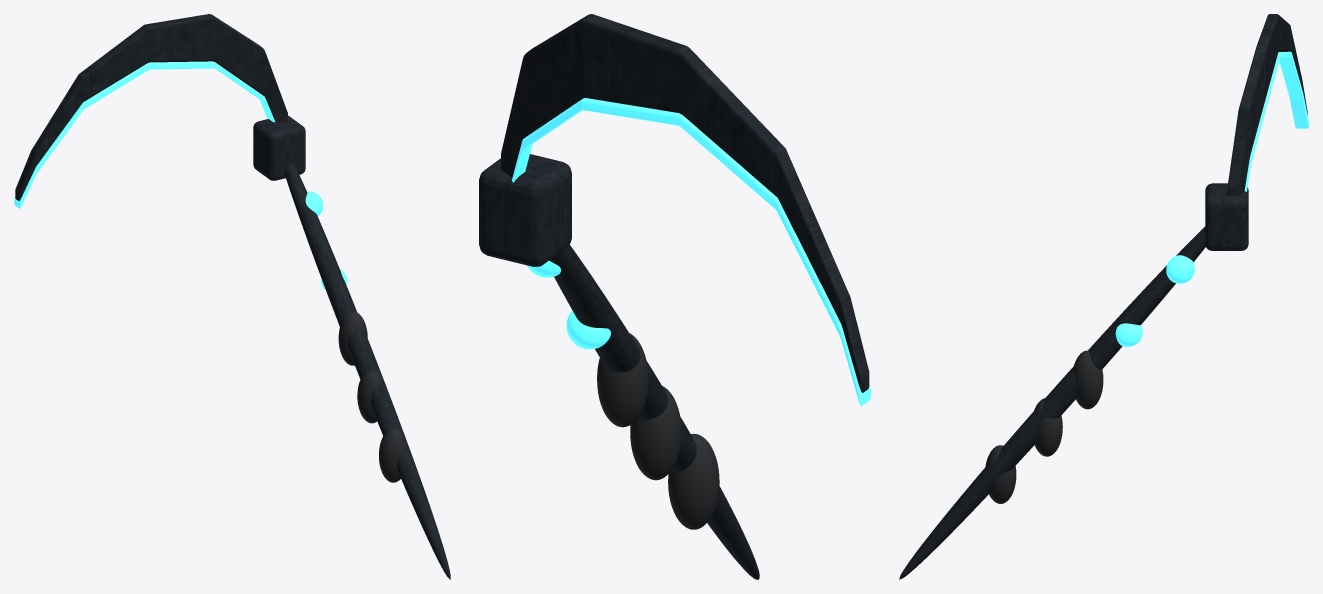
The model's file is plasma_scythe.glb.
3 views of the same model, side by side, from view 1: azimuth 30°, elevation 25°; view 2: azimuth 150°, elevation 25°; view 3: azimuth 270°, elevation 25° (orthographic). The views are drawn at different scales.
Visible parts, largest first — view 1: Forged crescent blade, Blade mounting collar, Grip wrap, Continuous plasma cutting edge; view 2: Forged crescent blade, Grip wrap, Blade mounting collar, Continuous plasma cutting edge; view 3: Forged crescent blade, Grip wrap, Continuous plasma cutting edge, Blade mounting collar.
Part boxes in pixels (<box>): Forged crescent blade: <box>15,14,450,579</box>; Blade mounting collar: <box>253,115,305,180</box>; Grip wrap: <box>338,311,405,482</box>; Continuous plasma cutting edge: <box>14,61,347,290</box>; Forged crescent blade: <box>501,14,869,579</box>; Grip wrap: <box>597,333,719,529</box>; Blade mounting collar: <box>479,154,571,266</box>; Continuous plasma cutting edge: <box>512,98,870,406</box>; Forged crescent blade: <box>899,14,1307,579</box>; Grip wrap: <box>985,350,1103,503</box>; Continuous plasma cutting edge: <box>1115,51,1308,346</box>; Blade mounting collar: <box>1205,183,1248,250</box>.
Bounding box in the file's own units: 0.5398 × 0.9452 × 0.7064.
Materials: 4 (2 with a texture image).
